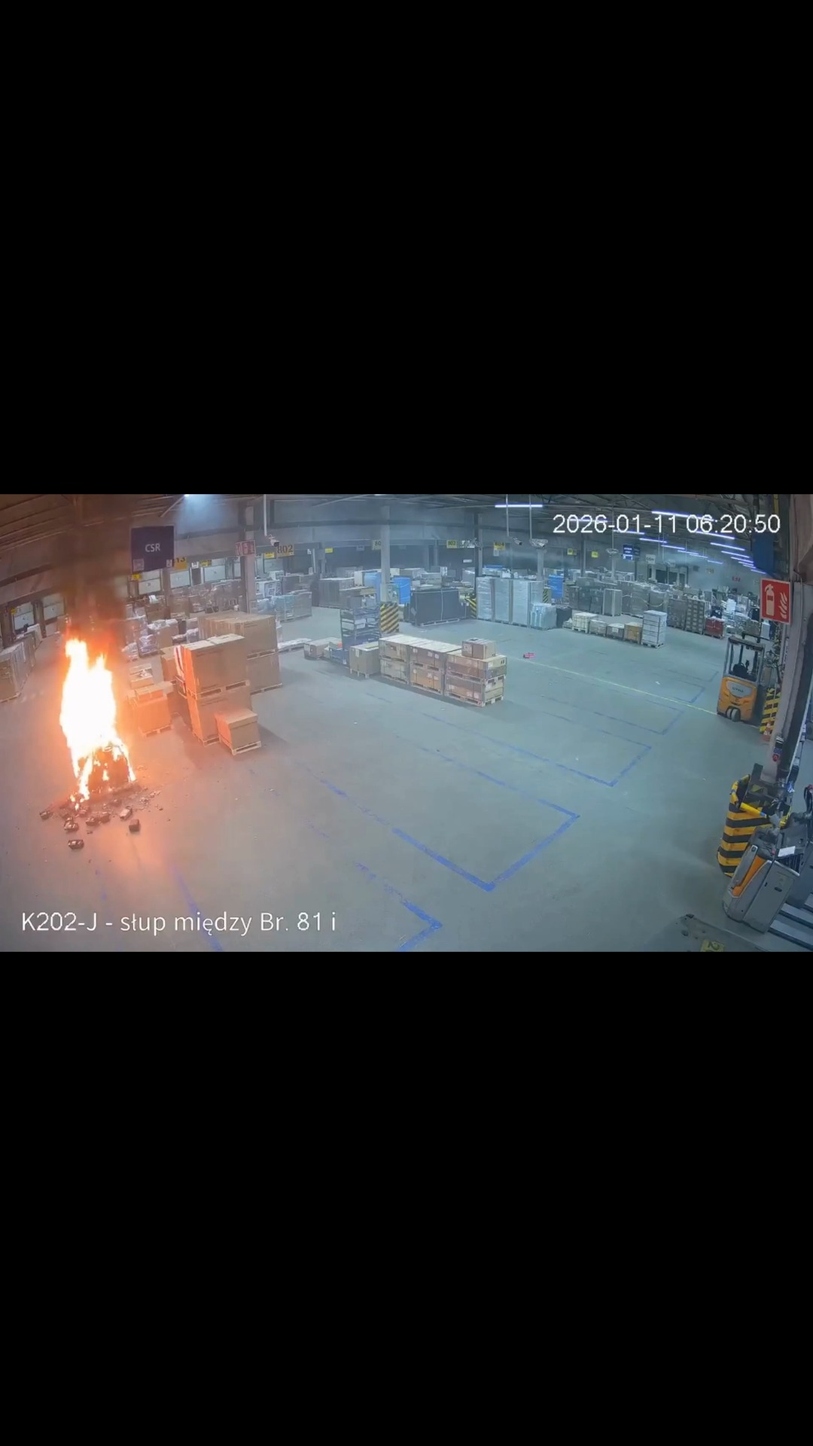fire: (59, 627, 137, 810)
smoke: (47, 495, 156, 642)
